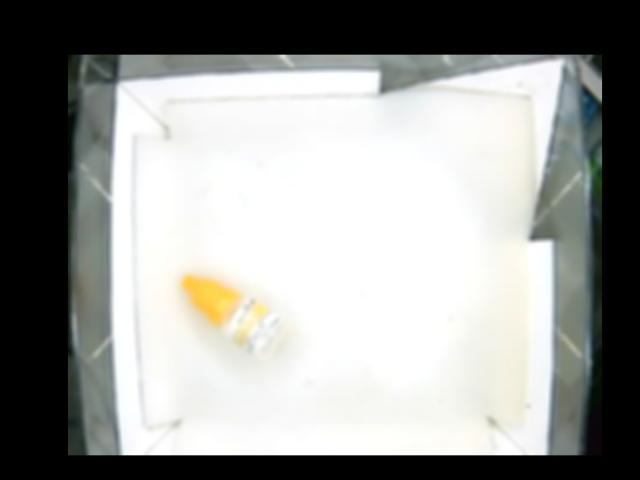Bottle: (178, 274, 284, 356)
